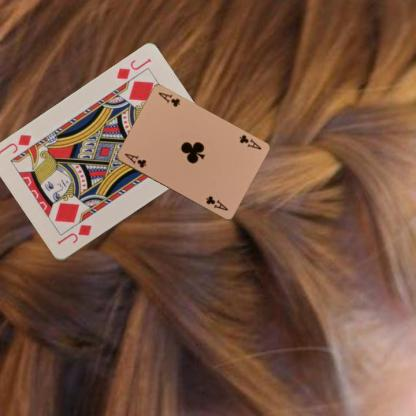Ac: (122, 151, 148, 170), (236, 132, 262, 151)
Jd: (113, 56, 153, 82), (54, 222, 93, 246)
